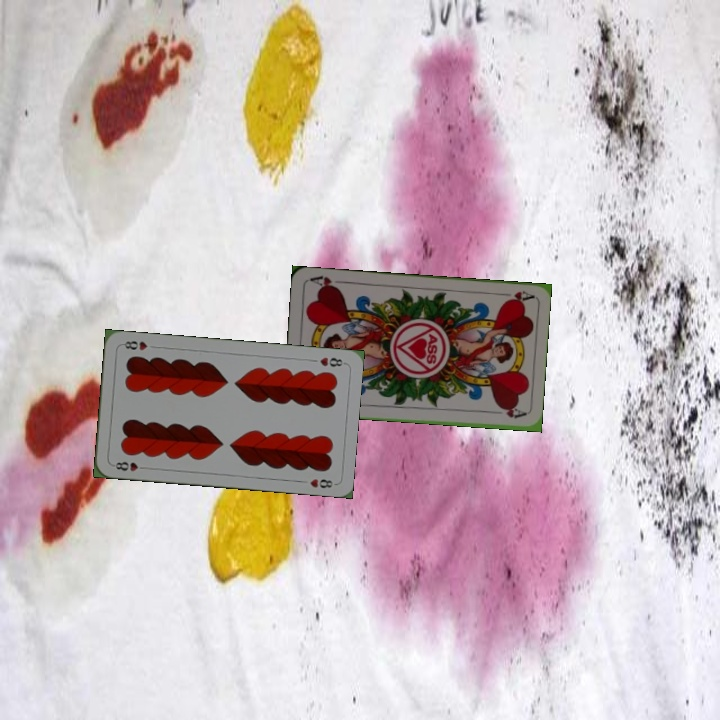H8: (109, 458, 149, 474), (316, 353, 347, 369)
HA: (494, 286, 535, 305)
